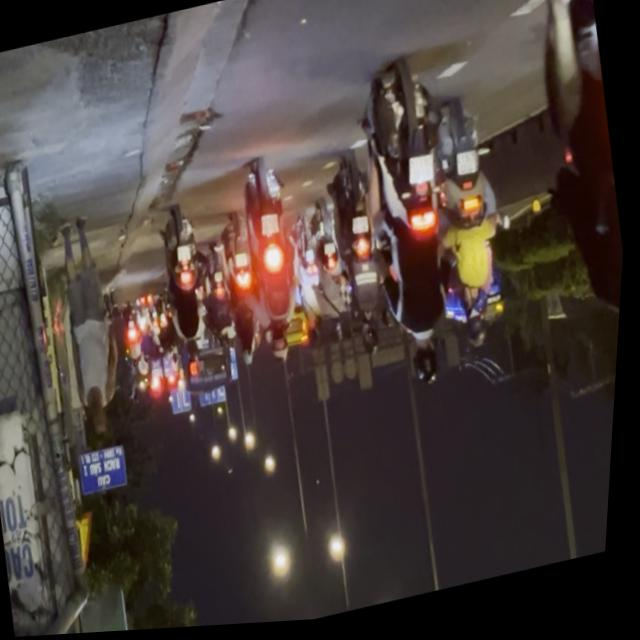helmet: (411, 338, 448, 395), (463, 285, 493, 326), (467, 318, 494, 356)
licenseplate: (480, 0, 640, 554), (339, 58, 484, 403), (410, 91, 532, 366)
nohelmet: (408, 157, 439, 191), (456, 155, 481, 182)
